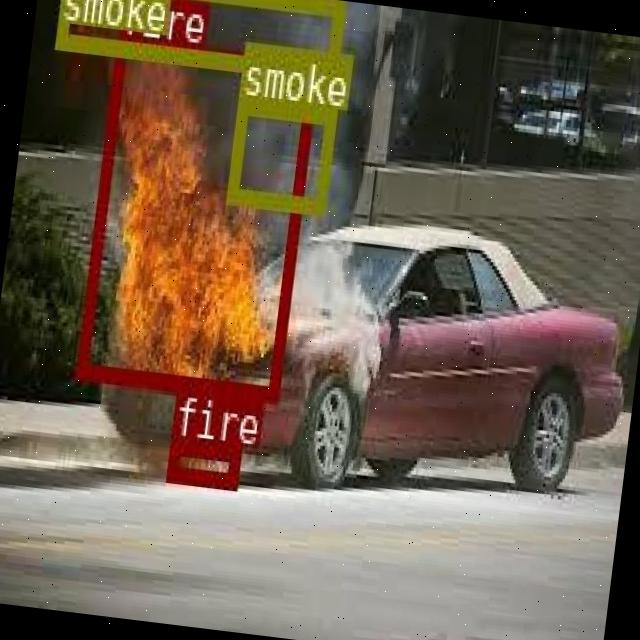fire: (76, 33, 317, 398), (164, 434, 240, 486)
smoke: (53, 0, 342, 80), (226, 96, 334, 210)
